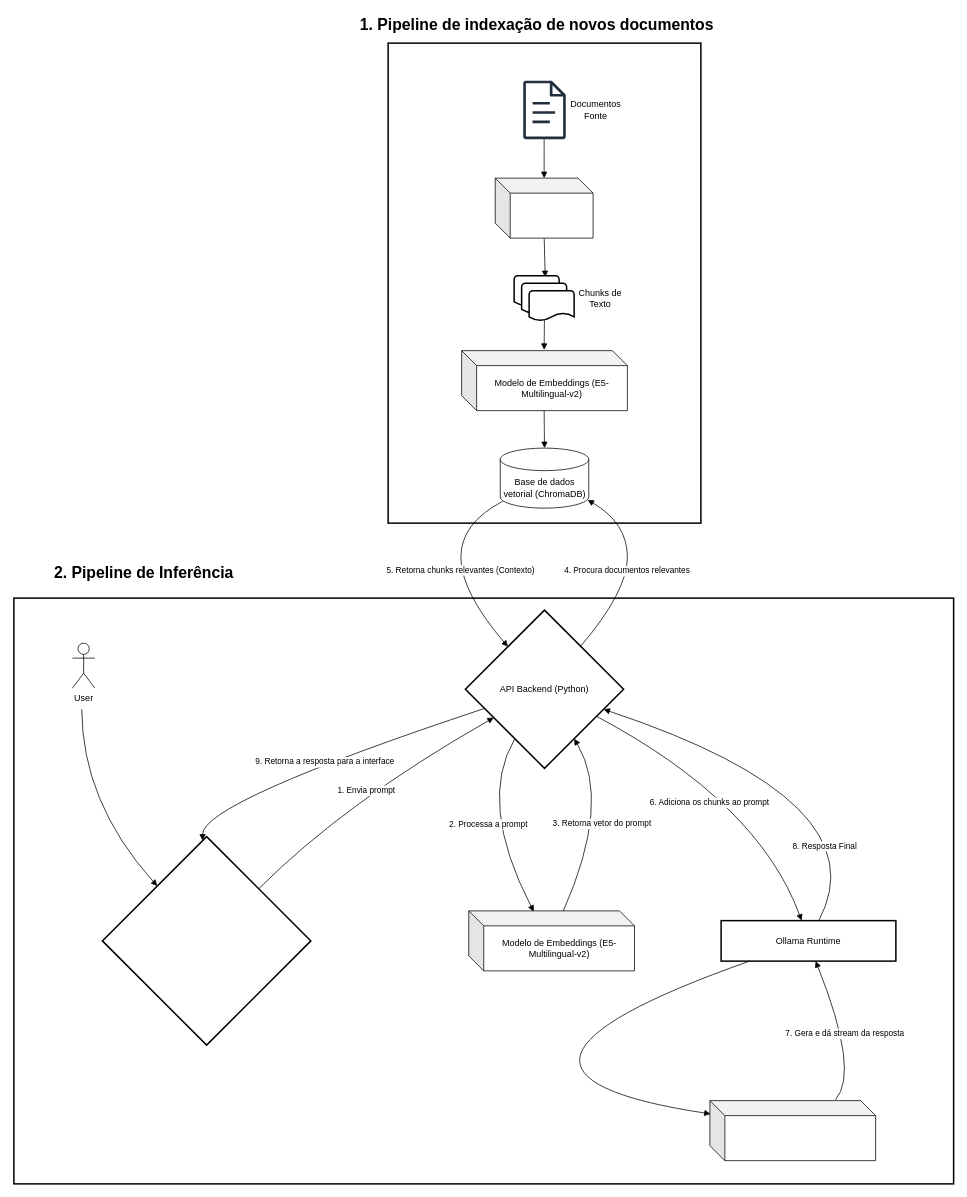
This 967x1197 diagram has some shape labels left out. The shapes that lost their labels are listed below. From the top down, each one's centre as x and y in pixels, then its label:
(x=543, y=207): Loader e Chunker de Texto
(x=206, y=941): Web App (User interface)
(x=792, y=1130): Gen LLM (Meta Llama 3 8B)
